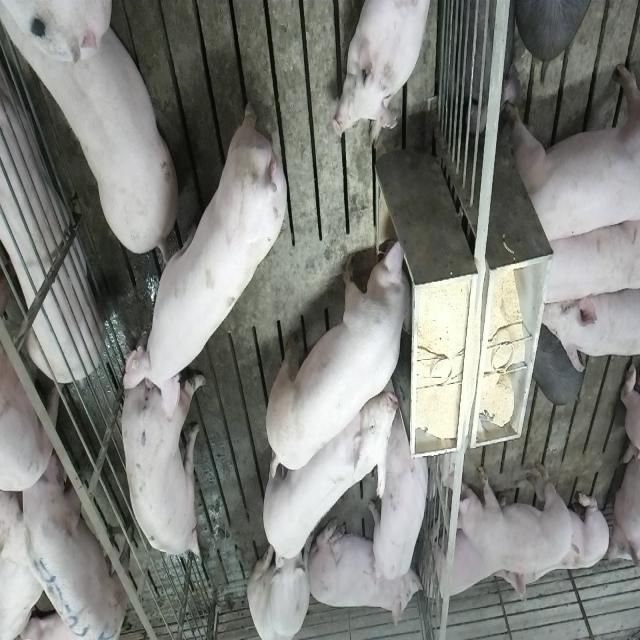Feeding: (269, 233, 421, 477)
Sitting: (248, 533, 312, 639)
Standing: (128, 91, 292, 401), (6, 8, 182, 264), (258, 374, 398, 561), (507, 58, 639, 250), (18, 434, 128, 640), (118, 362, 206, 564), (451, 464, 575, 574), (536, 213, 638, 307), (372, 419, 430, 582), (540, 287, 640, 372)
Sternal_lying: (0, 38, 100, 397), (334, 0, 436, 141), (496, 484, 608, 610), (310, 519, 422, 627), (426, 520, 501, 608)
